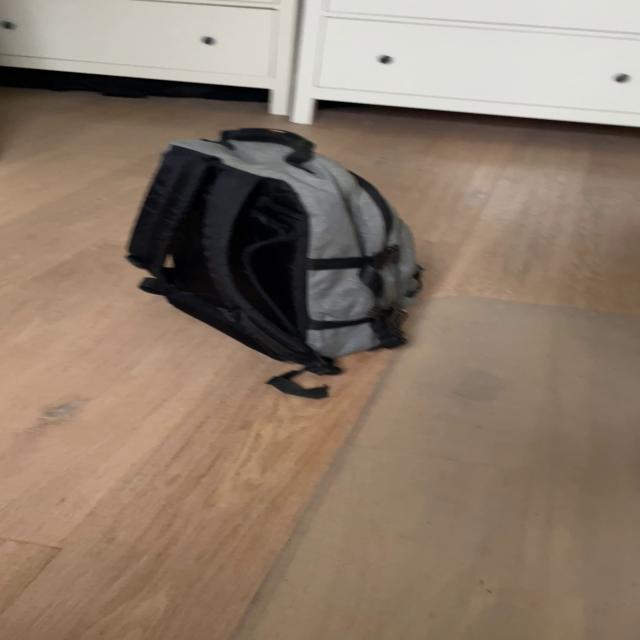backpack: (112, 112, 436, 378)
